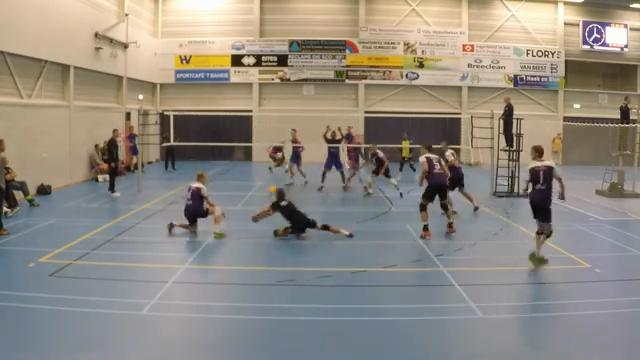Player: (525, 145, 564, 267), (167, 172, 225, 238), (419, 145, 454, 238), (441, 141, 479, 211), (364, 145, 402, 197), (318, 126, 346, 190), (286, 129, 307, 185), (347, 136, 365, 183), (398, 132, 415, 177), (344, 126, 355, 168), (268, 143, 284, 171)
Receive: (242, 180, 359, 244)
ball: (266, 185, 277, 196)
